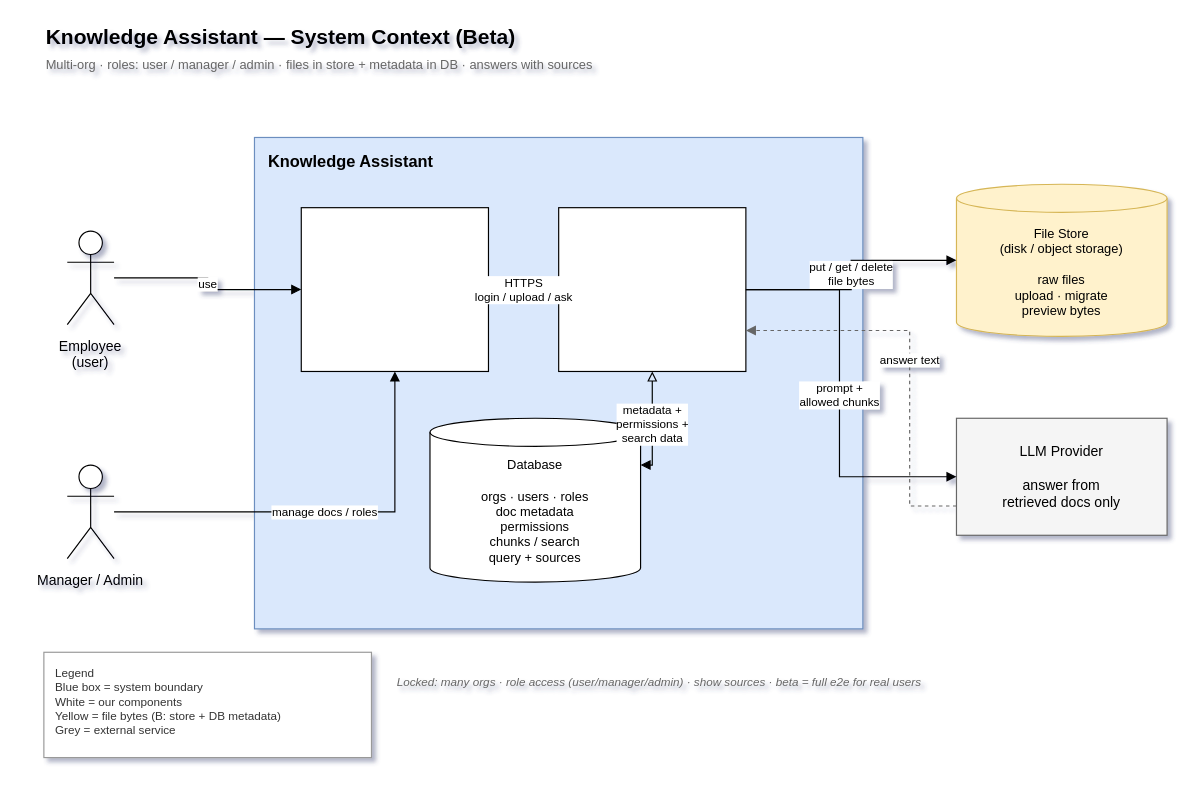
Some shapes in this 1195 by 785 pixel diagram are drawn without their labels. The centre of each missing label's shape, as x and y in pixels:
API auth · ingest doc management search / answer sources: the point at 652,289
Web App (Browser UI) login · upload · list delete · preview set doc roles · ask: the point at 394,289
